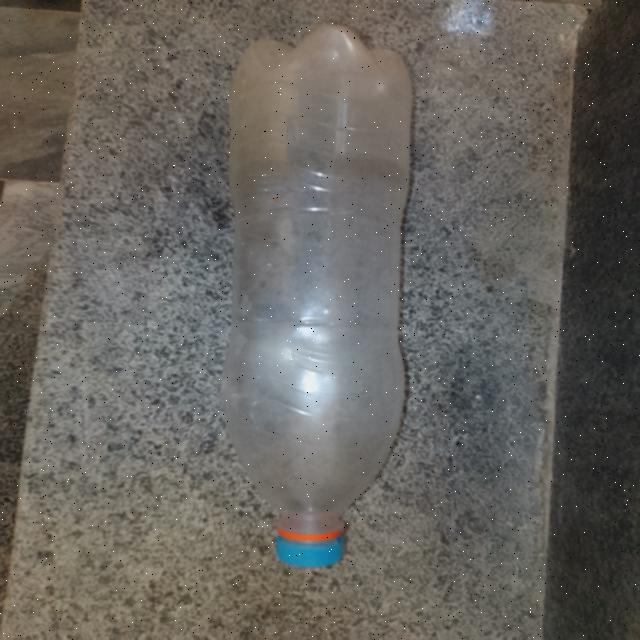bottle: (214, 21, 436, 584)
cap: (263, 530, 353, 572)
